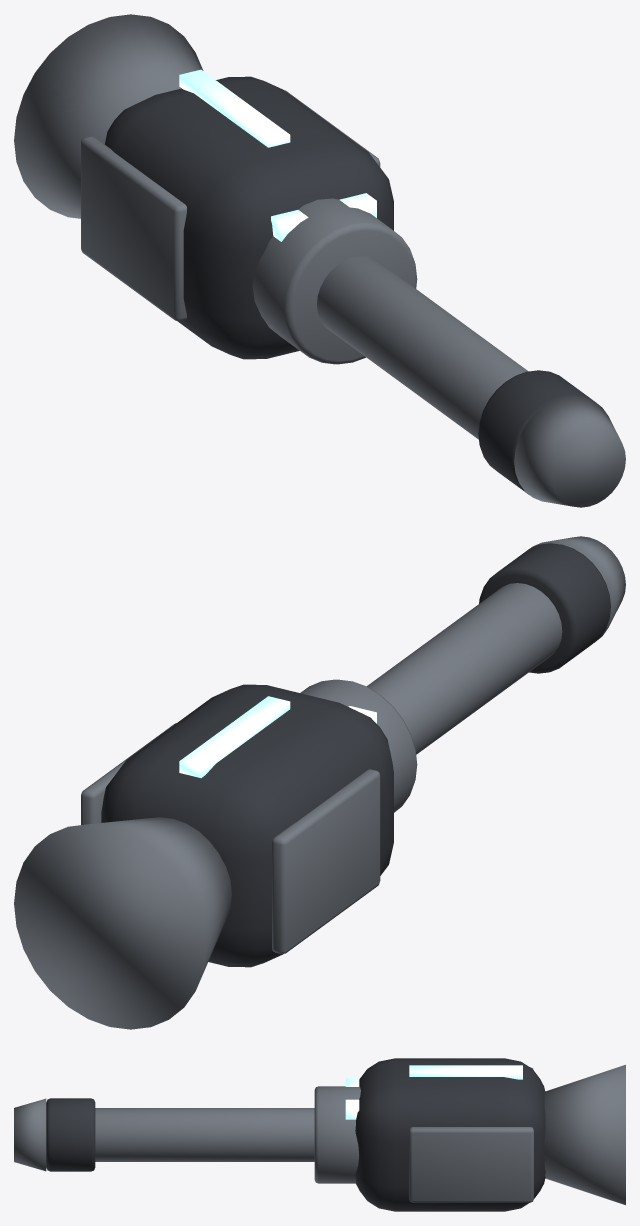
File: weapon_drone_light.glb
3 views of the same model, one above another, from view 1: azimuth 30°, elevation 25°; view 2: azimuth 150°, elevation 25°; view 3: azimuth 270°, elevation 25° (orthographic). The views are drawn at different scales.
Parts seen in each view (by area): view 1: blender_weapon_drone; view 2: blender_weapon_drone; view 3: blender_weapon_drone.
Boxes of the visible parts, x1=… form: blender_weapon_drone: x1=14, y1=14, x2=625, y2=507; blender_weapon_drone: x1=14, y1=536, x2=625, y2=1029; blender_weapon_drone: x1=14, y1=1058, x2=625, y2=1211.
Size of the model in its own units: 0.56 by 0.53 by 2.26.
